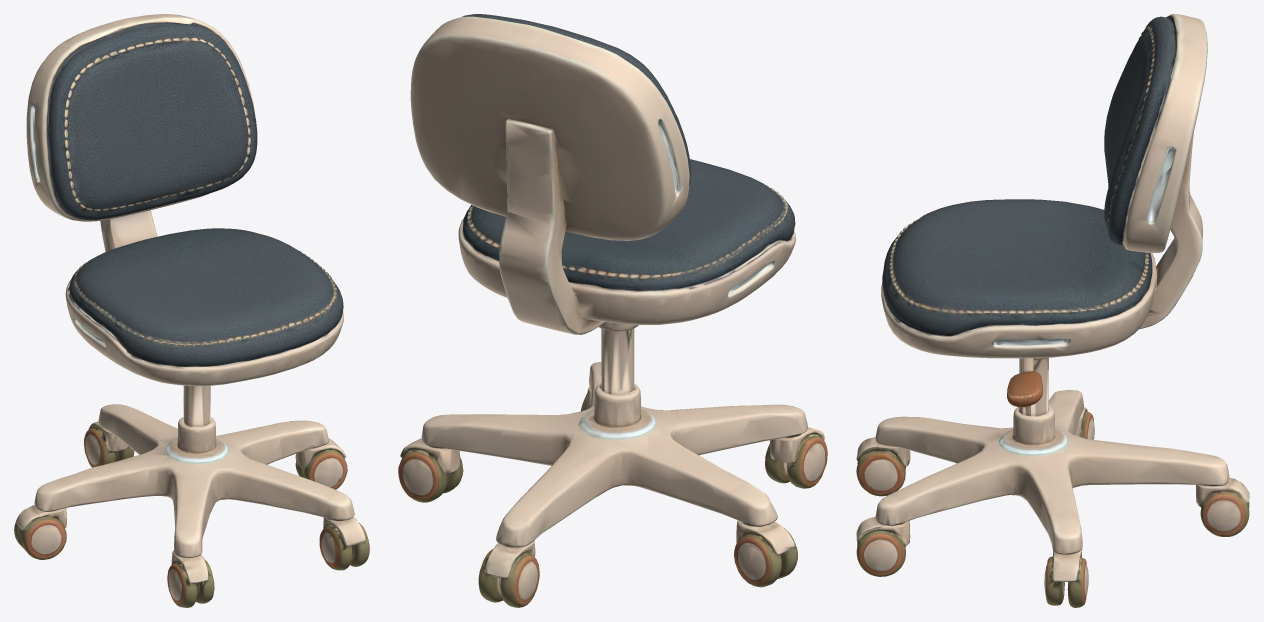
File: desk-chair.high.glb
3 renders of one model, left to right at view 1: azimuth 30°, elevation 25°; view 2: azimuth 150°, elevation 25°; view 3: azimuth 270°, elevation 25°, orthographic. The views are drawn at different scales.
Visible parts, largest first — view 1: tripo_node_4ed78f29-c6da-4b96-9b46-568618544dfa; view 2: tripo_node_4ed78f29-c6da-4b96-9b46-568618544dfa; view 3: tripo_node_4ed78f29-c6da-4b96-9b46-568618544dfa.
Boxes of the visible parts, x1,y1,x2,y2 form: tripo_node_4ed78f29-c6da-4b96-9b46-568618544dfa: (14,14,369,607); tripo_node_4ed78f29-c6da-4b96-9b46-568618544dfa: (398,14,827,607); tripo_node_4ed78f29-c6da-4b96-9b46-568618544dfa: (856,14,1249,607).
Bounding box in the file's own units: 0.6265 × 0.8599 × 0.6204.
Materials: 1 (1 with a texture image).
